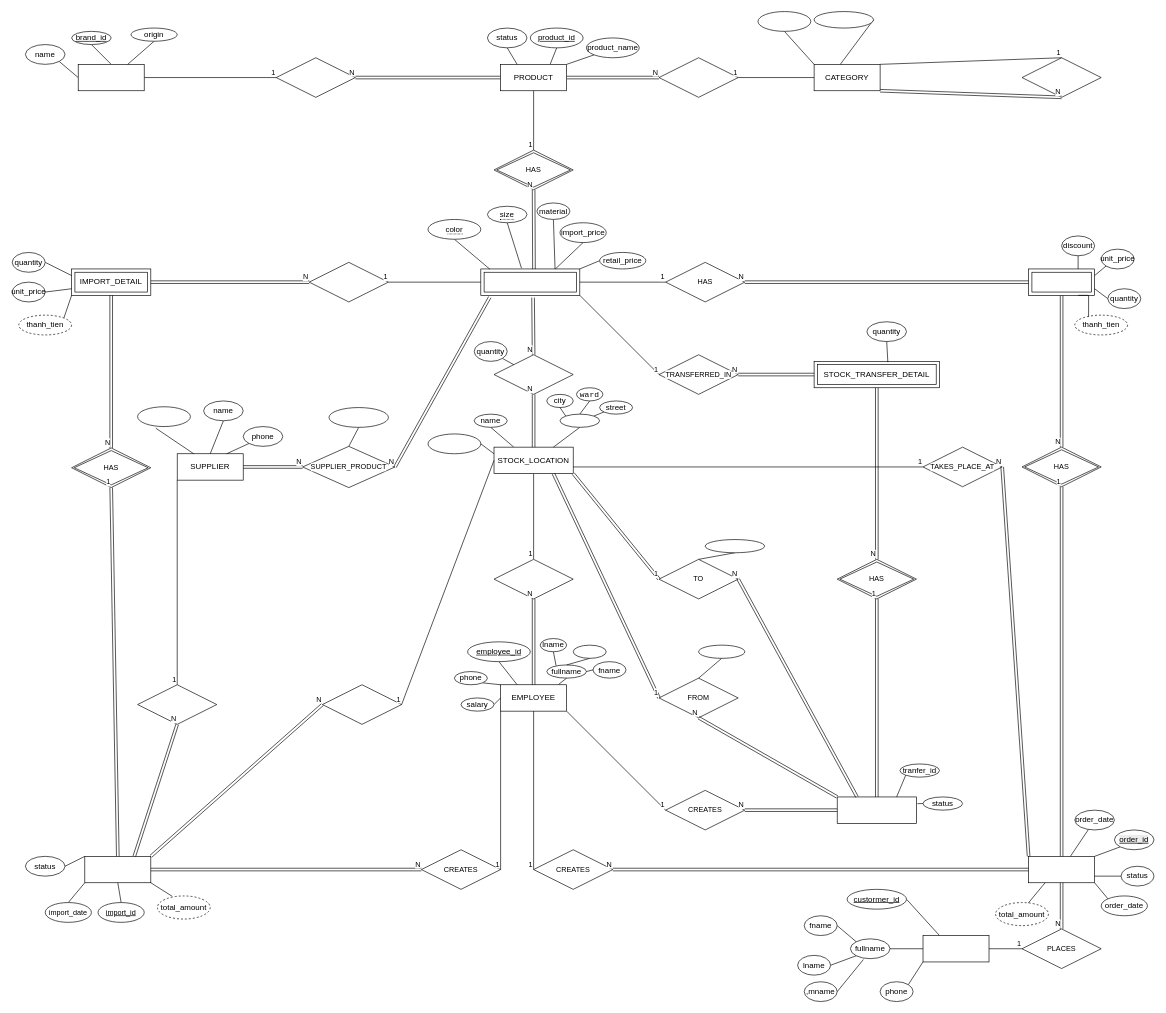
Image size: 1166x1013. Some labels were removed from this diagram. Here are the shapes that lost their labels. From the top down, the box of each, then its label:
(757, 11, 811, 31): category_id
(813, 11, 874, 28): category_name
(78, 64, 144, 91): BRAND
(276, 57, 355, 97): MAKES
(658, 57, 738, 97): BELONGS_TO
(1021, 57, 1101, 97): SUBCATEGORY
(309, 262, 388, 302): INCLUDED_IN
(480, 268, 580, 295): PRODUCT_VARIANT
(1028, 268, 1095, 295): SALES_DETAIL
(493, 354, 573, 394): ENVENTORIED_AT
(137, 406, 190, 427): supplier_id
(328, 407, 388, 427): supplier_price
(559, 413, 600, 427): address
(427, 433, 481, 454): location_id
(705, 539, 765, 553): received_date
(493, 559, 573, 599): WORKS_AT
(573, 644, 606, 658): mname
(698, 644, 745, 658): transfer_date
(137, 684, 217, 724): SUPPLIED_BY
(322, 684, 402, 724): IMPORTED_INTO
(837, 796, 916, 823): STOCK_TRANSFER
(84, 856, 151, 883): IMPORT_ORDER
(1028, 856, 1095, 883): SALES_ORDER
(922, 935, 989, 962): CUSTOMER
